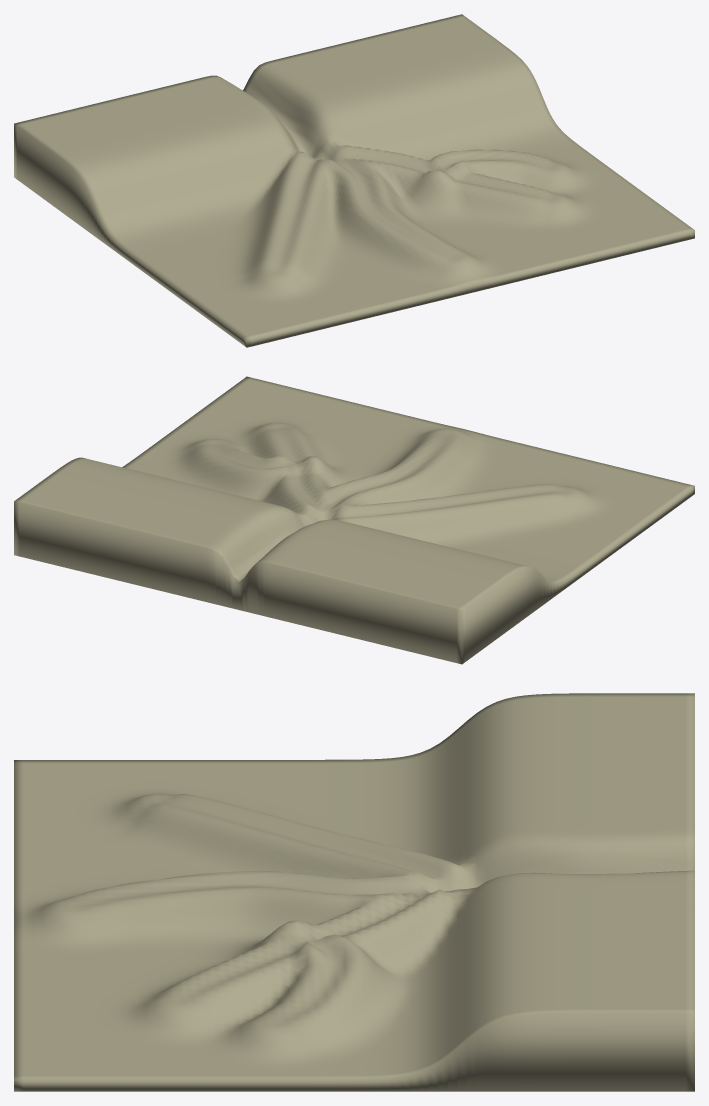
File: river-dominated-delta.glb
The picture shows the model from 3 angles, top to bottom: view 1: azimuth 30°, elevation 25°; view 2: azimuth 150°, elevation 25°; view 3: azimuth 270°, elevation 25°; orthographic projection. The views are drawn at different scales.
Visible parts, largest first — view 1: continuous-land-and-bed-birdfoot-delta-with-projecting-distr; view 2: continuous-land-and-bed-birdfoot-delta-with-projecting-distr; view 3: continuous-land-and-bed-birdfoot-delta-with-projecting-distr.
Part boxes in pixels (bbox=[...]): continuous-land-and-bed-birdfoot-delta-with-projecting-distr: bbox=[14, 14, 694, 347]; continuous-land-and-bed-birdfoot-delta-with-projecting-distr: bbox=[14, 376, 694, 664]; continuous-land-and-bed-birdfoot-delta-with-projecting-distr: bbox=[14, 693, 694, 1091].
Size of the model in its own units: 20 by 2.29 by 18.
